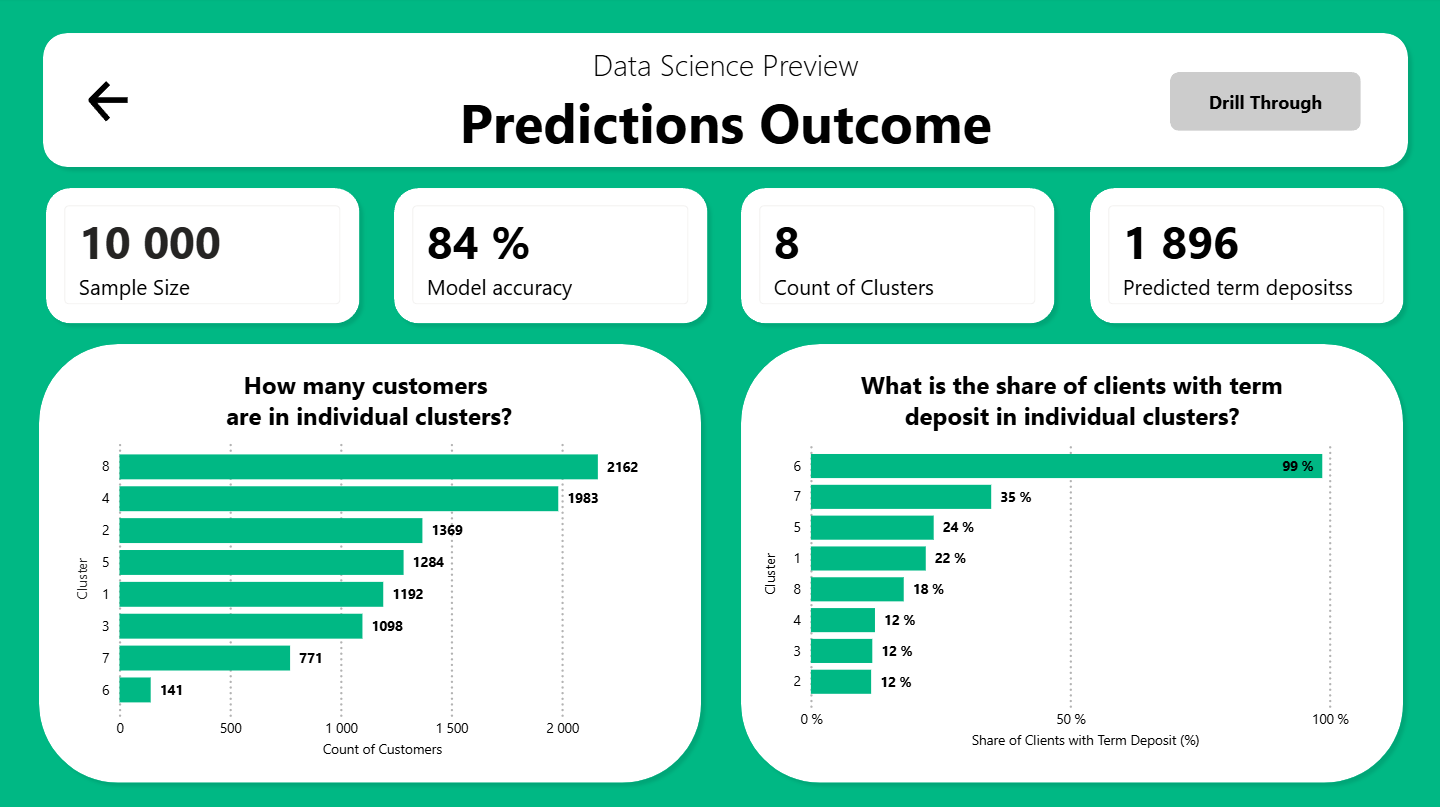

What the dashboard file says about the page in this screenshot:
{"tool":"powerbi","page":{"name":"Data Science","canvas":[1280,720],"ordinal":2},"visuals":[{"type":"shape","box":[0,0,1280,720],"z":0},{"type":"shape","box":[651,300,603,405],"z":1000},{"type":"shape","box":[28,300,603,405],"z":2000},{"type":"shape","box":[31.6,24.2,1226.3,134.7],"z":3000},{"type":"textbox","box":[42,36.7,1207,112],"z":4000},{"type":"actionButton","box":[1039.2,66.5,169.4,52.3],"z":6000},{"type":"shape","box":[35,161,294,136],"z":7000},{"type":"shape","box":[343,161,294,136],"z":8000},{"type":"cardVisual","fields":{"Data":["bank_cluster.Model_accuracy"]},"box":[350,168,279,122],"z":9000},{"type":"shape","box":[651,161,294,136],"z":10000},{"type":"shape","box":[960,161,294,136],"z":11000},{"type":"cardVisual","fields":{"Data":["Sum(results.n_of_y1)"]},"box":[967,168,279,122],"z":12000},{"type":"barChart","fields":{"Category":["results.Cluster"],"Y":["CountNonNull(bank_cluster.cluster)"]},"box":[65,381,529,298],"z":13000},{"type":"textbox","box":[32,324,594,69],"z":14000},{"type":"cardVisual","fields":{"Data":["CountNonNull(bank_cluster.cluster)"]},"box":[42,168,279,122],"z":15000},{"type":"cardVisual","fields":{"Data":["CountNonNull(results.Cluster)"]},"box":[658,168,279,122],"z":16000},{"type":"barChart","fields":{"Y":["Median(results.y_ratio)"],"Category":["results.Cluster"]},"box":[675,381,555,290],"z":17000},{"type":"textbox","box":[655,324,594,69],"z":18000},{"type":"actionButton","box":[76,70.2,46,45],"z":19000}]}

Visuals, with their boxes in screenshot pixels (x1, y1, x2, y2), scaled from the page's 1280x720 canvas onto the 1440x807 screenshot:
shape: locate(0, 0, 1439, 806)
shape: locate(732, 336, 1411, 790)
shape: locate(32, 336, 710, 790)
shape: locate(36, 27, 1415, 178)
textbox: locate(47, 41, 1405, 167)
actionButton: locate(1169, 75, 1360, 133)
shape: locate(39, 180, 370, 333)
shape: locate(386, 180, 717, 333)
cardVisual - bank_cluster.Model_accuracy: locate(394, 188, 708, 325)
shape: locate(732, 180, 1063, 333)
shape: locate(1080, 180, 1411, 333)
cardVisual - Sum(results.n_of_y1): locate(1088, 188, 1402, 325)
barChart - results.Cluster x CountNonNull(bank_cluster.cluster): locate(73, 427, 668, 761)
textbox: locate(36, 363, 704, 440)
cardVisual - CountNonNull(bank_cluster.cluster): locate(47, 188, 361, 325)
cardVisual - CountNonNull(results.Cluster): locate(740, 188, 1054, 325)
barChart - Median(results.y_ratio) x results.Cluster: locate(759, 427, 1384, 752)
textbox: locate(737, 363, 1405, 440)
actionButton: locate(86, 79, 137, 129)
